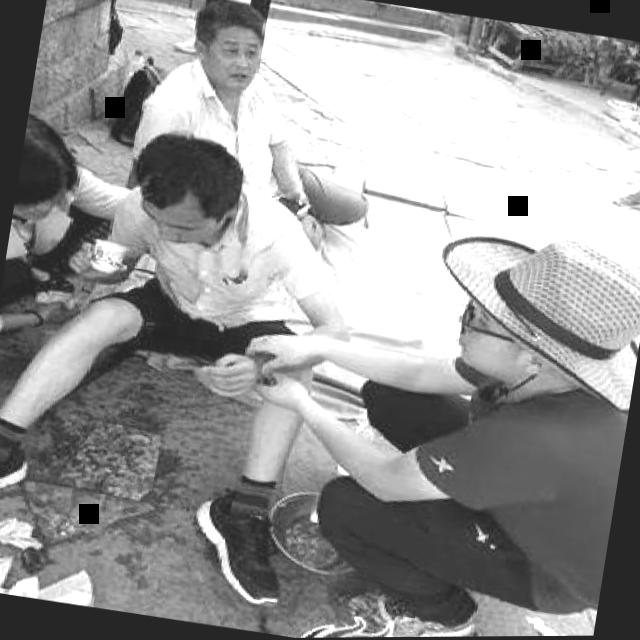Fall-Detected: (0, 100, 370, 599)
